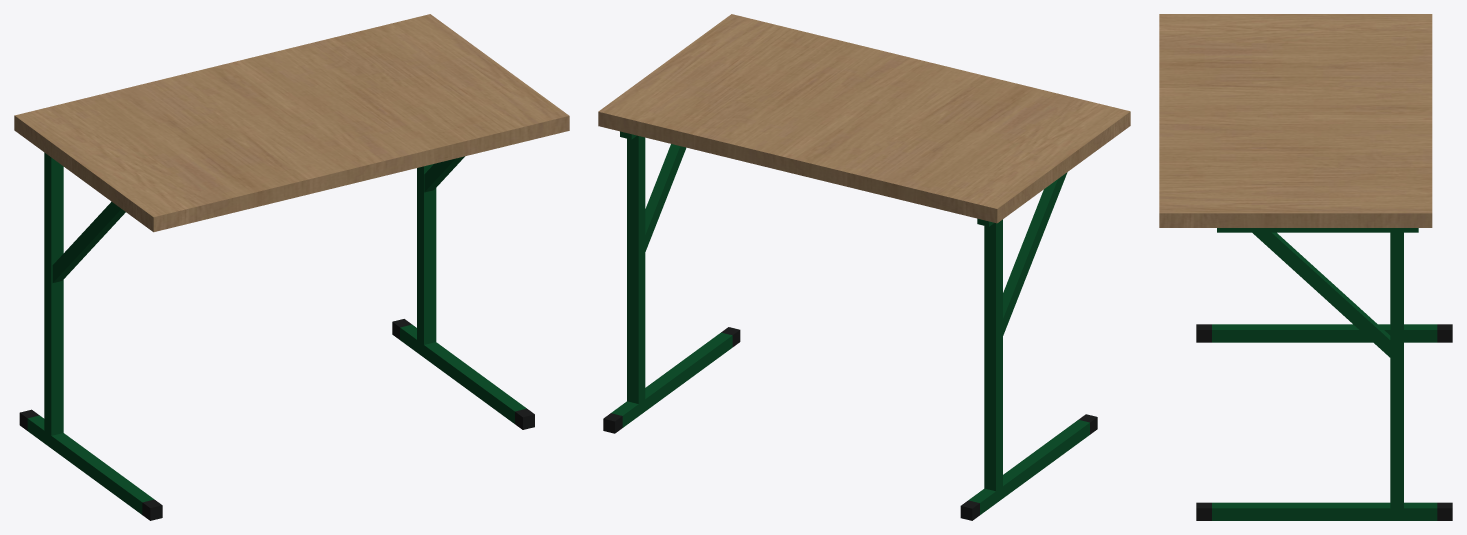
File: table2.FBX
The picture shows the model from 3 angles, left to right: view 1: azimuth 30°, elevation 25°; view 2: azimuth 150°, elevation 25°; view 3: azimuth 270°, elevation 25°; orthographic projection. The views are drawn at different scales.
Parts seen in each view (by area): view 1: table2; view 2: table2; view 3: table2.
Boxes of the visible parts, x1,y1,x2,y2 form: table2: [14, 14, 569, 520]; table2: [598, 14, 1130, 520]; table2: [1159, 14, 1452, 520].
Bounding box in the file's own units: 6.83 × 5.04 × 4.25.
